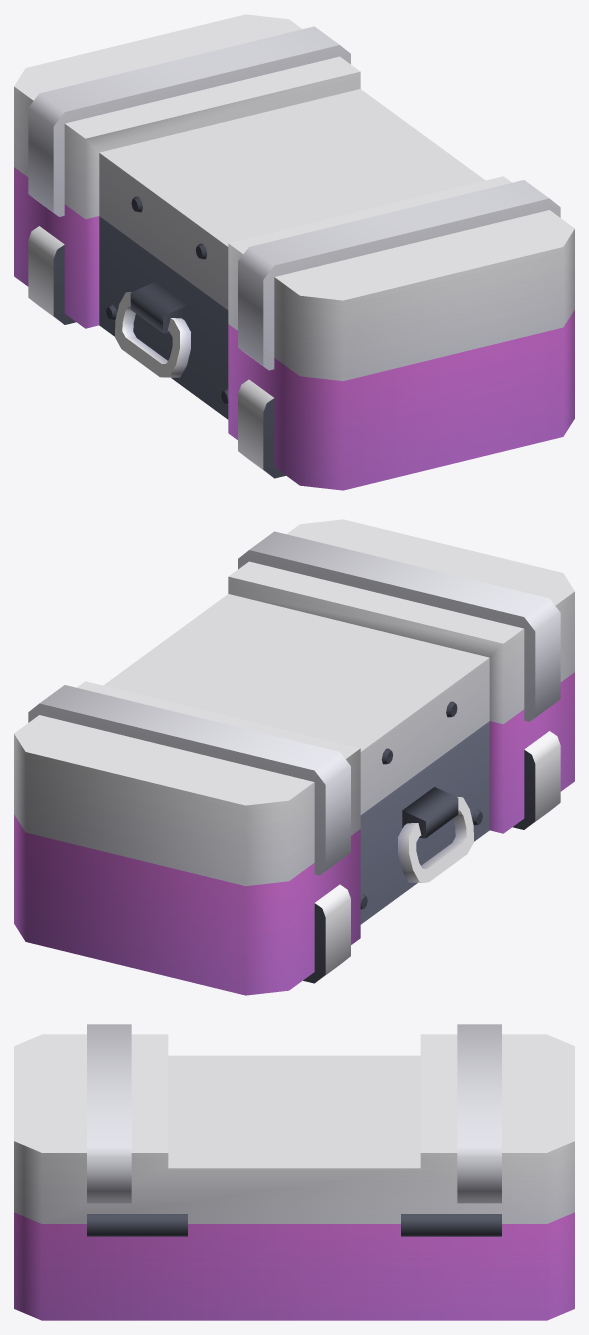
Rendered from crate-medium.glb.
The picture shows the model from 3 angles, top to bottom: view 1: azimuth 30°, elevation 25°; view 2: azimuth 150°, elevation 25°; view 3: azimuth 270°, elevation 25°; orthographic projection. The views are drawn at different scales.
Parts seen in each view (by area): view 1: lid, crate-medium; view 2: lid, crate-medium; view 3: lid, crate-medium.
Part boxes in pixels (x1,y1,x2,y2): lid: [14, 14, 574, 381]; crate-medium: [14, 167, 574, 490]; lid: [14, 519, 574, 886]; crate-medium: [14, 672, 574, 995]; lid: [14, 1024, 574, 1223]; crate-medium: [14, 1212, 574, 1320].
Bounding box in the file's own units: 0.5495 × 0.37 × 1.
1 material, 1 textured.
